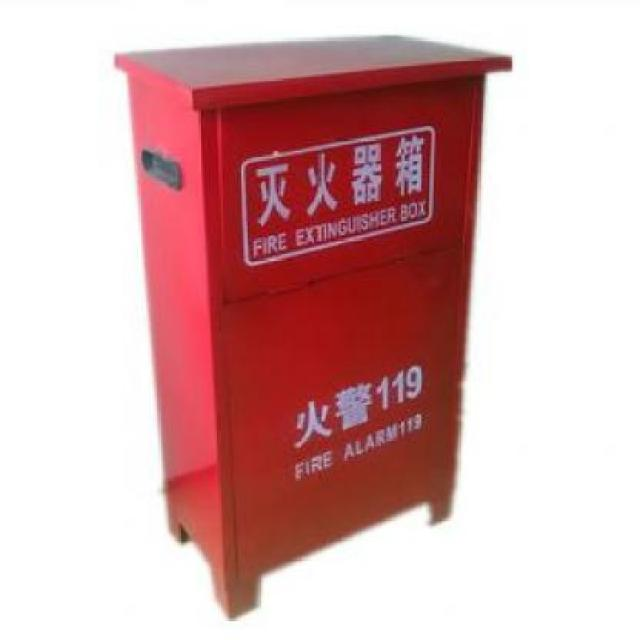firehydrant: (106, 28, 520, 626)
